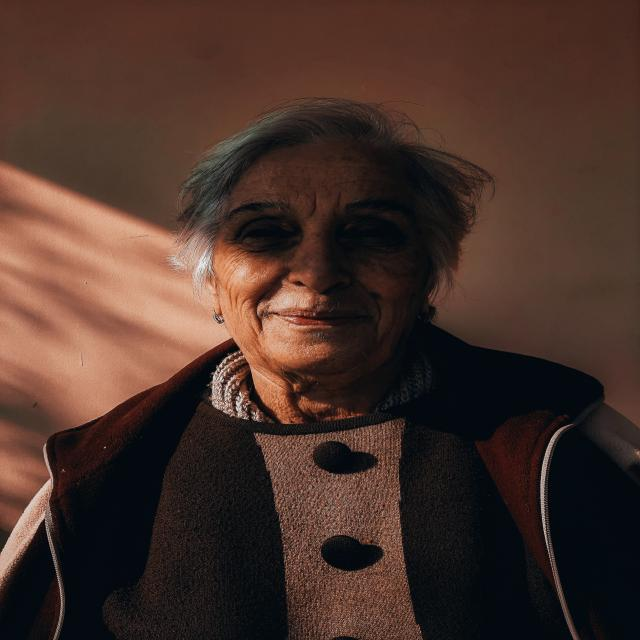adult: (0, 100, 634, 640)
